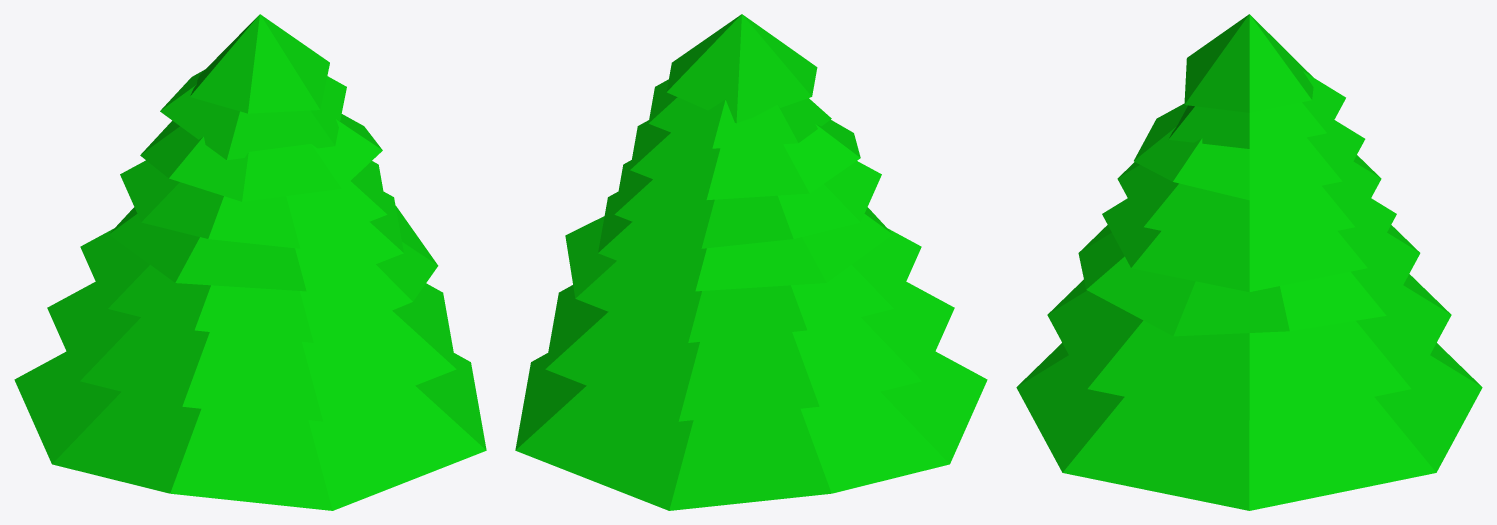
File: ak_pinetree.fbx
3 views of the same model, side by side, from view 1: azimuth 30°, elevation 25°; view 2: azimuth 150°, elevation 25°; view 3: azimuth 270°, elevation 25° (orthographic).
Parts seen in each view (by area): view 1: PineTree; view 2: PineTree; view 3: PineTree.
Boxes of the visible parts, x1=… form: PineTree: x1=14, y1=14, x2=486, y2=510; PineTree: x1=515, y1=14, x2=987, y2=510; PineTree: x1=1016, y1=14, x2=1482, y2=510.
Size of the model in its own units: 116 by 114 by 113.
